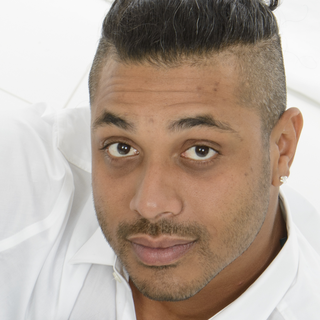eye: (178, 138, 227, 165), (97, 135, 142, 162)
